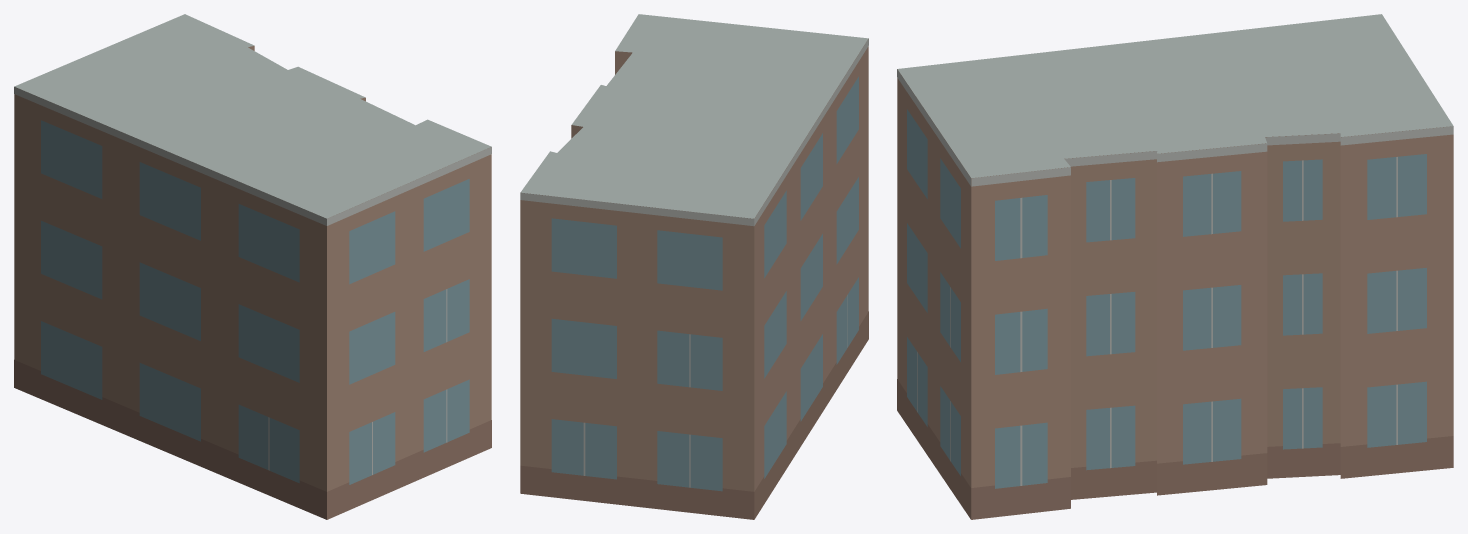
File: survey-upis-33001324.glb
3 views of the same model, side by side, from view 1: azimuth 30°, elevation 25°; view 2: azimuth 150°, elevation 25°; view 3: azimuth 270°, elevation 25° (orthographic). The views are drawn at different scales.
Parts seen in each view (by area): view 1: survey-upis-33001324.tmp; view 2: survey-upis-33001324.tmp; view 3: survey-upis-33001324.tmp.
Part boxes in pixels (x1=…): survey-upis-33001324.tmp: x1=14, y1=14, x2=491, y2=519; survey-upis-33001324.tmp: x1=520, y1=14, x2=868, y2=519; survey-upis-33001324.tmp: x1=897, y1=14, x2=1453, y2=519.
Bounding box in the file's own units: 10.22 × 9.9 × 14.62.
